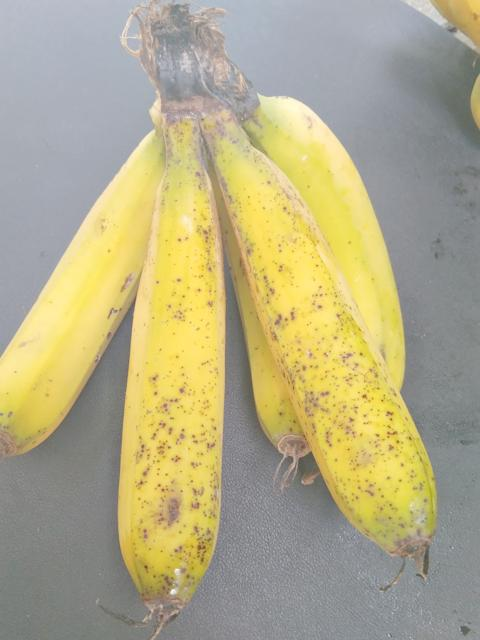ripe: (213, 138, 443, 571), (102, 135, 283, 629)
